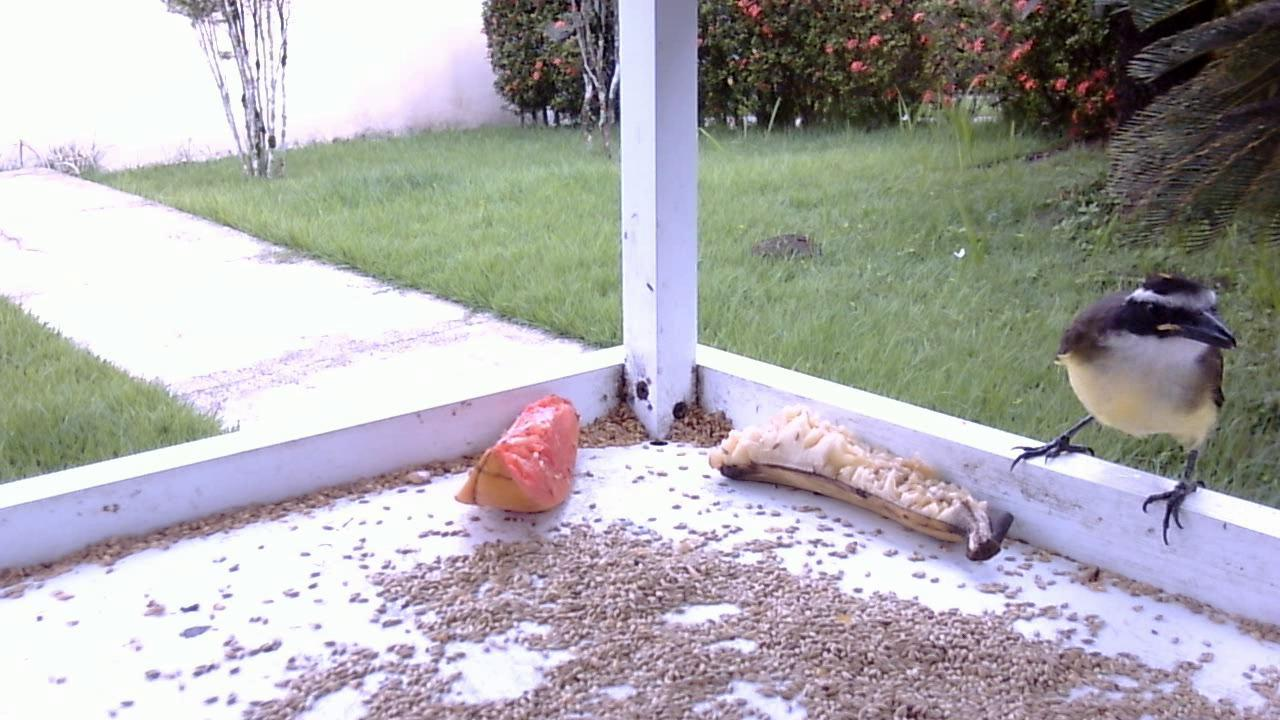bem_te_vi: (992, 261, 1242, 565)
